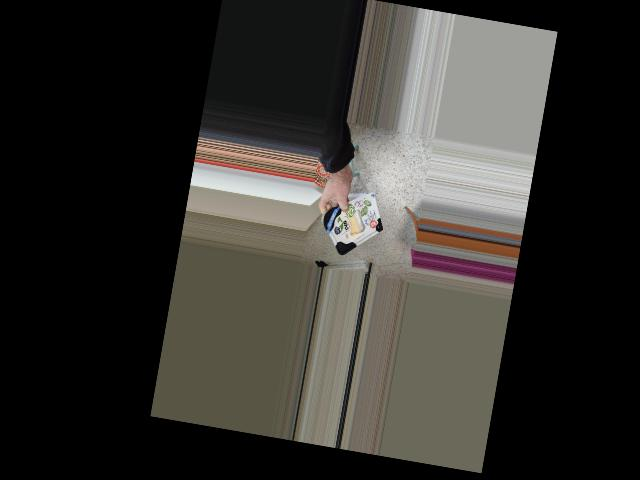cheese: (314, 189, 393, 260)
